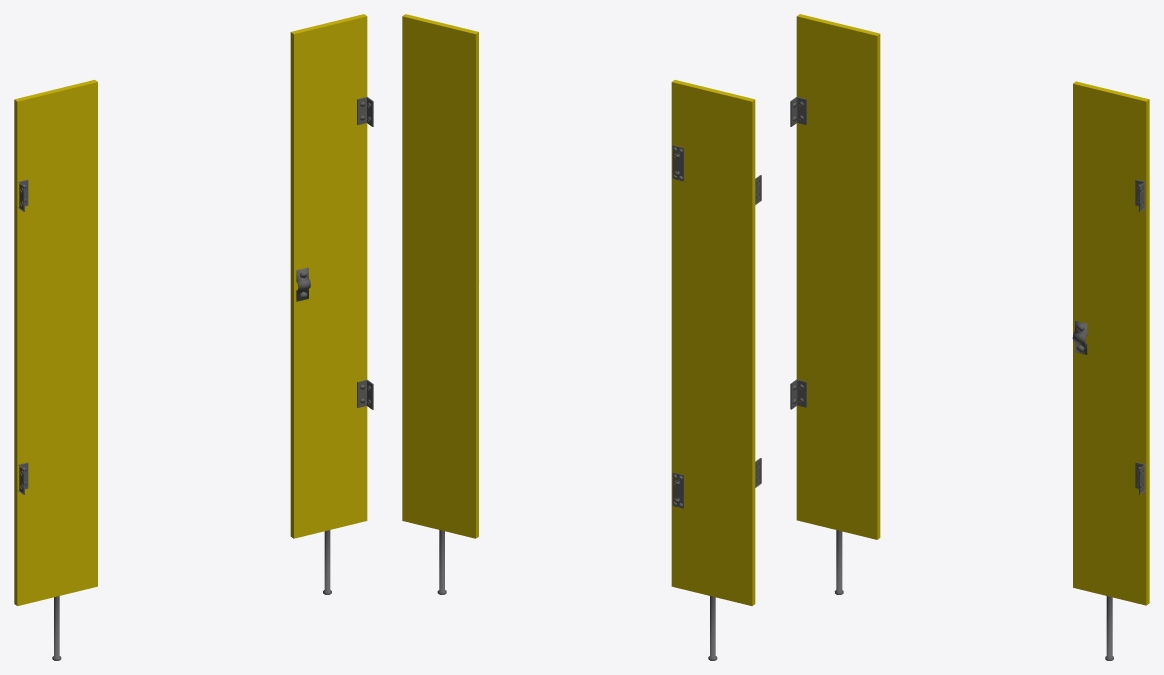
Rendered from SNWP_MOD_BUN_Stall_door_02.fbx.
The picture shows the model from 3 angles, left to right: view 1: azimuth 30°, elevation 25°; view 2: azimuth 150°, elevation 25°; view 3: azimuth 330°, elevation 25°; orthographic projection.
Parts seen in each view (by area): view 1: SNWP_MOD_Stall_door_02; view 2: SNWP_MOD_Stall_door_02; view 3: SNWP_MOD_Stall_door_02.
Part boxes in pixels (x1=…): SNWP_MOD_Stall_door_02: x1=14, y1=14, x2=373, y2=660; SNWP_MOD_Stall_door_02: x1=402, y1=14, x2=761, y2=660; SNWP_MOD_Stall_door_02: x1=790, y1=14, x2=1149, y2=660.
Bounding box in the file's own units: 1.23 × 1.91 × 0.0748.
